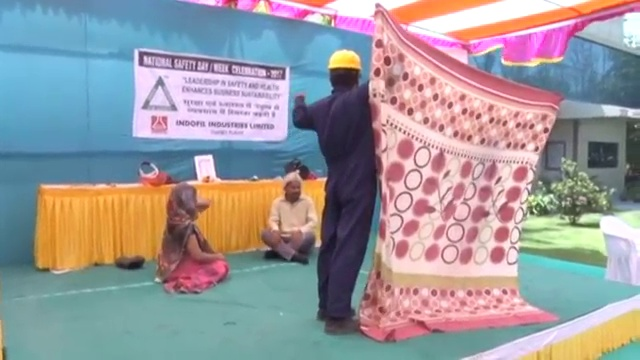helmet: (327, 49, 362, 70)
helmet_off: (170, 180, 199, 208), (283, 171, 303, 200)
helmet_on: (326, 50, 362, 93)
person: (295, 50, 374, 332), (158, 178, 227, 294), (260, 169, 317, 267)
